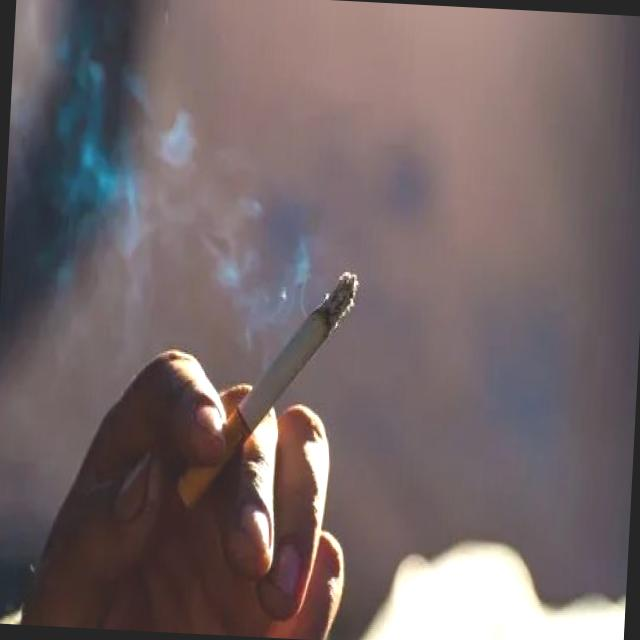smoke: (174, 252, 368, 528)
